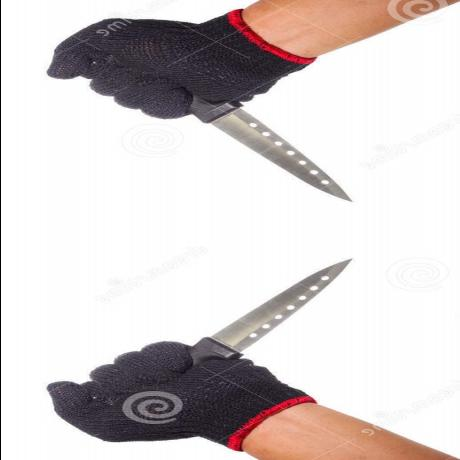1: (37, 341, 460, 460), (42, 0, 460, 120)
weapon: (176, 92, 350, 204), (187, 260, 347, 364)
